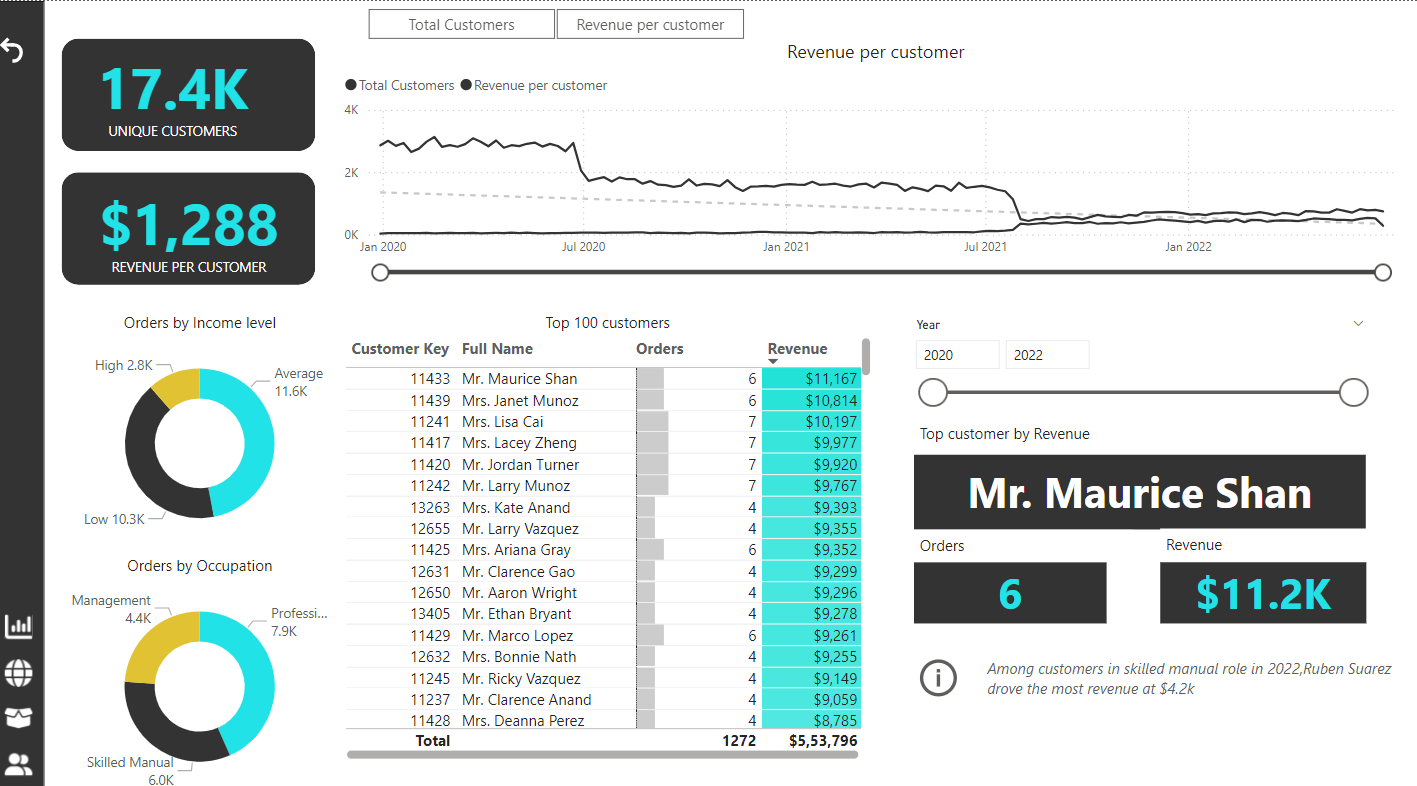

The page's visual inventory and layout, read from the dashboard file:
{"tool":"powerbi","page":{"name":"Customer Detail","canvas":[1280,720],"ordinal":3},"visuals":[{"type":"shape","box":[0,0,45,720.5],"z":0},{"type":"actionButton","box":[5.1,540.5,49.5,32.6],"z":1000,"group":"g1"},{"type":"shape","box":[60.3,33.8,225.6,100.1],"z":1000},{"type":"actionButton","box":[5.1,581.1,49.5,32.6],"z":2000,"group":"g1"},{"type":"shape","box":[60.3,152,225.6,100.1],"z":2000},{"type":"actionButton","box":[5.1,621.7,49.5,32.6],"z":3000,"group":"g1"},{"type":"card","fields":{"Values":["Measure Table.Average Revenue per customer"]},"box":[74.8,120.6,197.9,165.3],"z":3000},{"type":"card","fields":{"Values":["Measure Table.Total Customers"]},"box":[60.3,0,197.9,165.3],"z":4000},{"type":"actionButton","box":[5.1,662.4,49.5,32.6],"z":4000,"group":"g1"},{"type":"lineChart","fields":{"Category":["Calendar Lookup.Date Hierarchy.Start of Year","Calendar Lookup.Date Hierarchy.Start of Month","Calendar Lookup.Date Hierarchy.Start of Week","Calendar Lookup.Date Hierarchy.Date"],"Y":["Measure Table.Total Customers","Measure Table.Average Revenue per customer"]},"box":[306.4,33.8,954.3,218.4],"z":5000},{"type":"donutChart","title":"Orders by Income level","fields":{"Category":["Customer Lookup.Income level"],"Y":["Measure Table.Total Orders"]},"box":[60.3,276.3,246.1,216],"z":6000},{"type":"donutChart","title":"Orders by Occupation","fields":{"Y":["Measure Table.Total Orders"],"Category":["Customer Lookup.Occupation"]},"box":[60.3,492.2,246.1,217.2],"z":7000},{"type":"tableEx","title":"Top 100 customers","fields":{"Values":["Customer Lookup.CustomerKey","Customer Lookup.Full Name","Measure Table.Total Orders","Measure Table.Total Revenue"]},"box":[306.4,276.3,477.8,403],"z":8000},{"type":"card","fields":{"Values":["Customer Lookup.Full Name (Customer detail)"]},"box":[818,403,401.7,66.4],"z":9000},{"type":"card","fields":{"Values":["Measure Table.Total orders (Customer details)"]},"box":[818.3,498.9,171.3,54.3],"z":10000},{"type":"card","fields":{"Values":["Measure Table.Total Revenue(Customer details)"]},"box":[1036.6,498.9,183.4,54.3],"z":11000},{"type":"textbox","box":[818,370.4,194.2,29],"z":12000},{"type":"textbox","box":[818.3,470,194.2,29],"z":13000},{"type":"textbox","box":[1036.6,468.8,194.2,29],"z":14000},{"type":"slicer","fields":{"Values":["Calendar Lookup.Year"]},"box":[807.1,276.3,423.5,97.7],"z":15000},{"type":"actionButton","box":[818,580.3,451.2,43.4],"z":16000},{"type":"actionButton","box":[0,27.7,44.6,31.4],"z":17000},{"type":"group","id":"g1","title":"Navigation Buttons","box":[5.1,540.5,49.5,154.4],"z":18000},{"type":"slicer","fields":{"Values":["Customer Metric Solution.Customer Metric Solution"]},"box":[306.4,0,383.6,33.8],"z":18001}]}

Visuals, with their boxes on the page's 1280x720 design canvas (x1, y1, x2, y2). These are canvas units, not pixel positions in the 1417x786 screenshot, which may show the page scaled, cropped or inside an application window:
shape: left=0, top=0, right=45, bottom=720
actionButton: left=5, top=540, right=55, bottom=573
shape: left=60, top=34, right=286, bottom=134
actionButton: left=5, top=581, right=55, bottom=614
shape: left=60, top=152, right=286, bottom=252
actionButton: left=5, top=622, right=55, bottom=654
card - Measure Table.Average Revenue per customer: left=75, top=121, right=273, bottom=286
card - Measure Table.Total Customers: left=60, top=0, right=258, bottom=165
actionButton: left=5, top=662, right=55, bottom=695
lineChart - Calendar Lookup.Date Hierarchy.Start of Year x Calendar Lookup.Date Hierarchy.Start of Month: left=306, top=34, right=1261, bottom=252
"Orders by Income level" donutChart: left=60, top=276, right=306, bottom=492
"Orders by Occupation" donutChart: left=60, top=492, right=306, bottom=709
"Top 100 customers" tableEx: left=306, top=276, right=784, bottom=679
card - Customer Lookup.Full Name (Customer detail): left=818, top=403, right=1220, bottom=469
card - Measure Table.Total orders (Customer details): left=818, top=499, right=990, bottom=553
card - Measure Table.Total Revenue(Customer details): left=1037, top=499, right=1220, bottom=553
textbox: left=818, top=370, right=1012, bottom=399
textbox: left=818, top=470, right=1012, bottom=499
textbox: left=1037, top=469, right=1231, bottom=498
slicer - Calendar Lookup.Year: left=807, top=276, right=1231, bottom=374
actionButton: left=818, top=580, right=1269, bottom=624
actionButton: left=0, top=28, right=45, bottom=59
"Navigation Buttons" group: left=5, top=540, right=55, bottom=695
slicer - Customer Metric Solution.Customer Metric Solution: left=306, top=0, right=690, bottom=34
